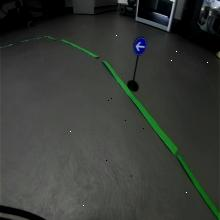left: (133, 36, 147, 56)
